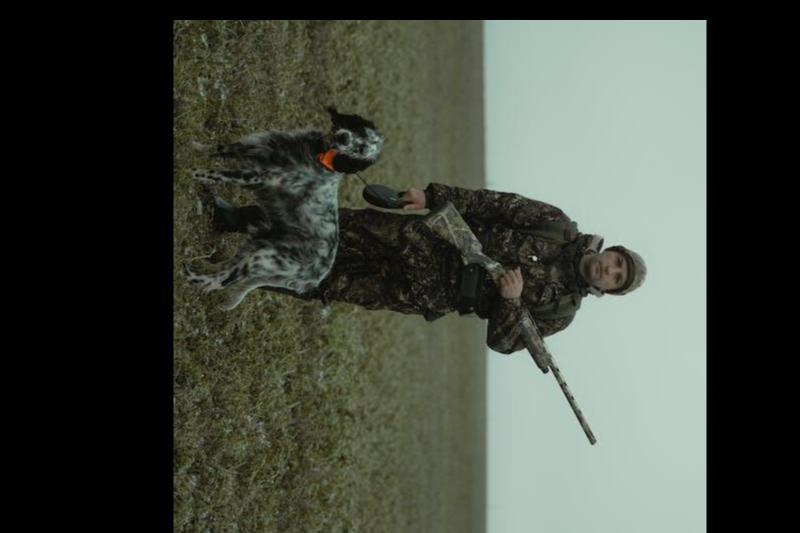larga: (421, 197, 600, 446)
